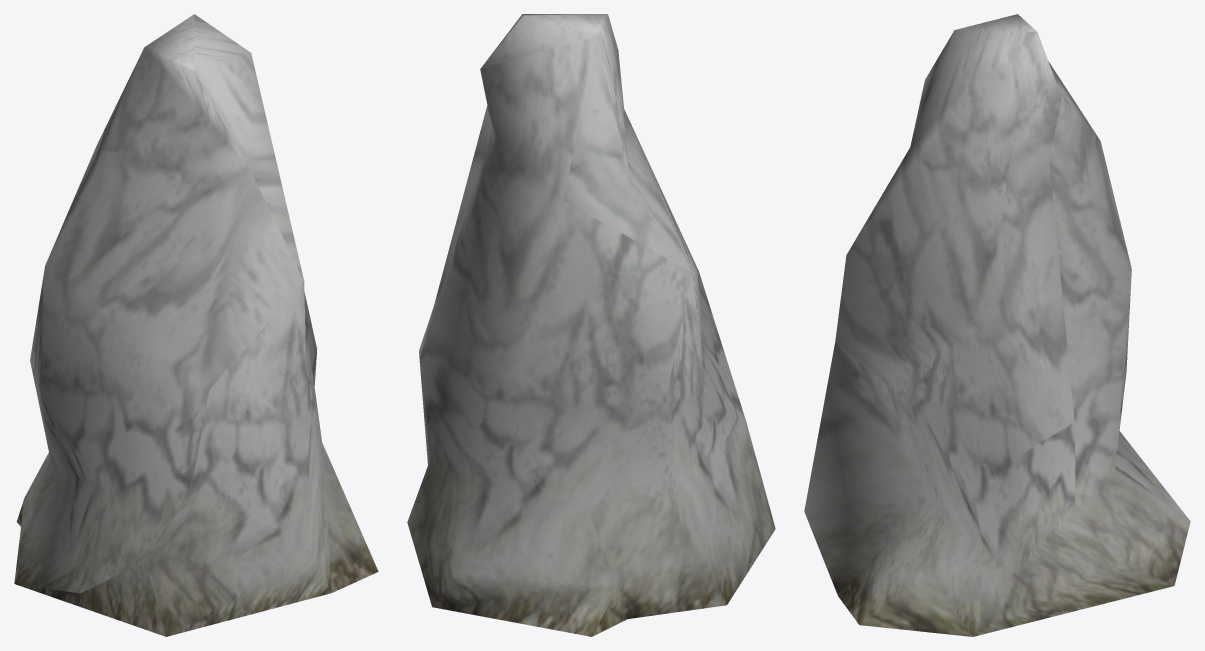
Rendered from general_obj_bigstone10_lod_01.fbx.
3 renders of one model, left to right at view 1: azimuth 30°, elevation 25°; view 2: azimuth 150°, elevation 25°; view 3: azimuth 270°, elevation 25°, orthographic. The views are drawn at different scales.
Visible parts, largest first — view 1: Sphere01fs02; view 2: Sphere01fs02; view 3: Sphere01fs02.
Boxes of the visible parts, x1,y1,x2,y2 form: Sphere01fs02: (14, 14, 378, 636); Sphere01fs02: (407, 14, 775, 636); Sphere01fs02: (804, 14, 1190, 636).
Bounding box in the file's own units: 13.23 × 21.35 × 13.75.
